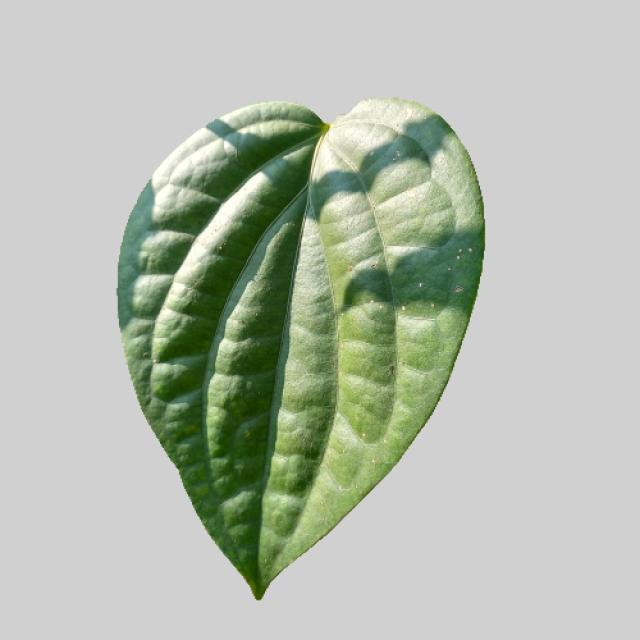healthy: (106, 93, 491, 605)
